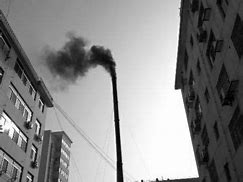smoke: (41, 31, 118, 78)
